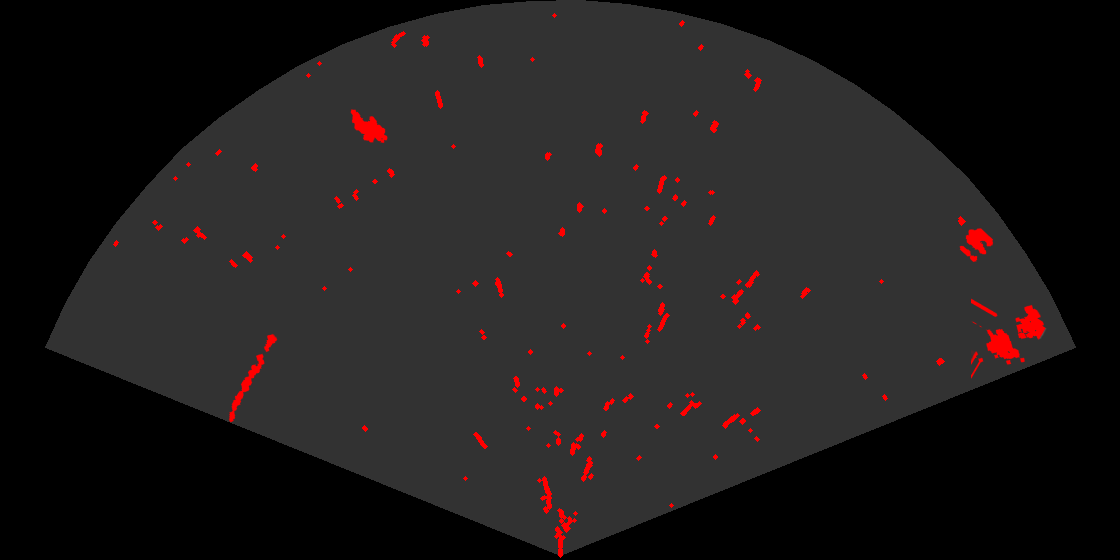AUV: (349, 108, 389, 145)
ball: (958, 227, 995, 264)
cage: (971, 297, 1047, 380)
chain: (227, 332, 279, 424)
